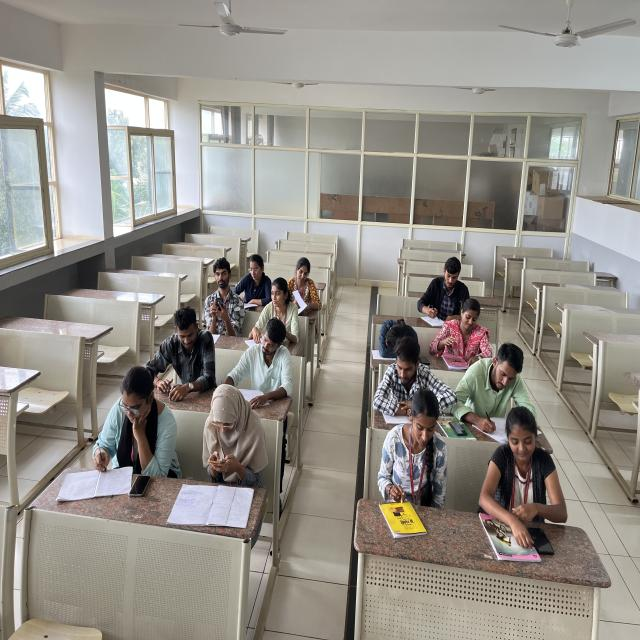Sleeping: (365, 312, 422, 359)
Using Phone: (190, 383, 272, 505), (198, 252, 243, 335)
Writing: (54, 354, 174, 512), (465, 347, 530, 437), (410, 244, 477, 322), (237, 253, 271, 304)
